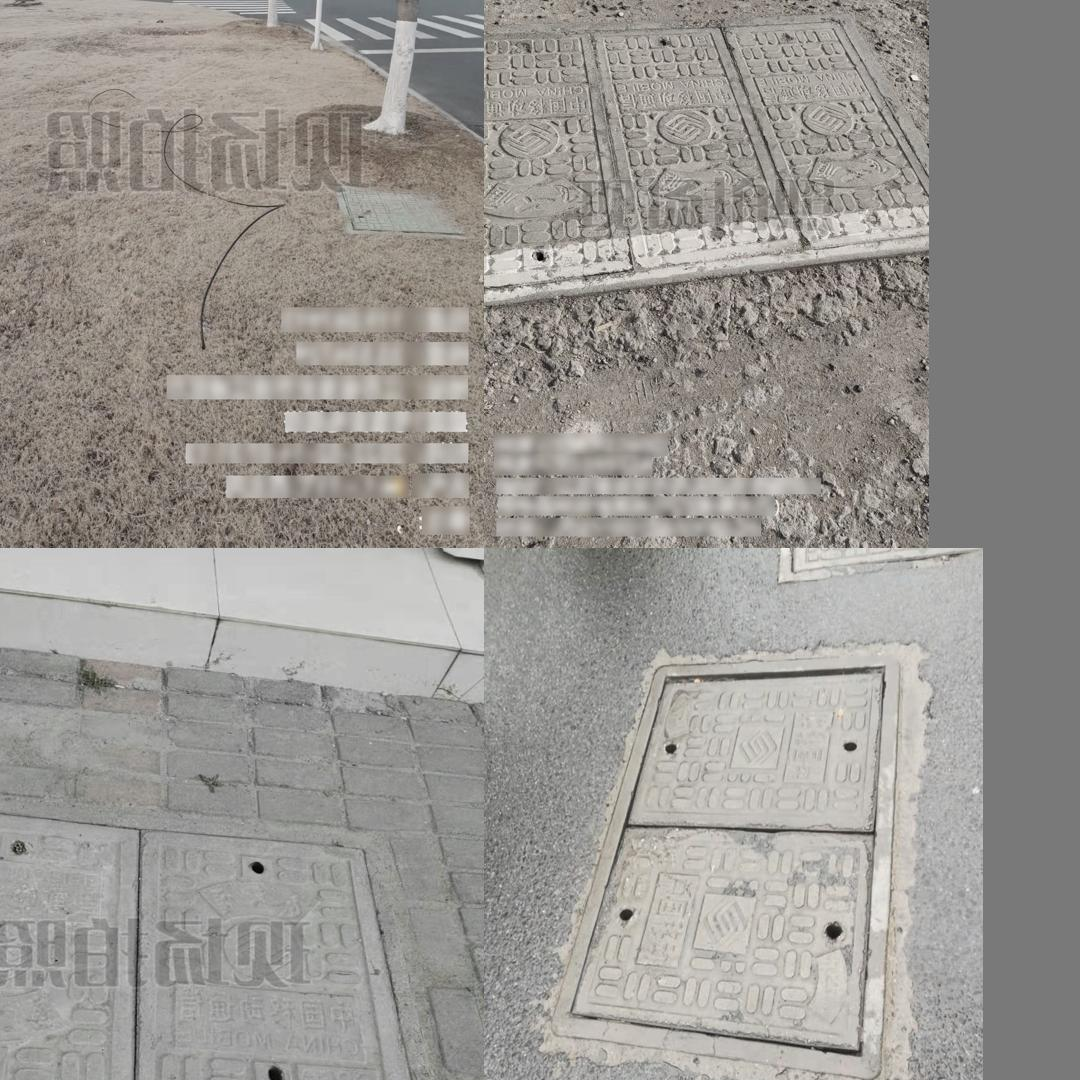good: (552, 656, 898, 1080), (484, 12, 929, 308), (0, 790, 427, 1080), (336, 182, 468, 238)
